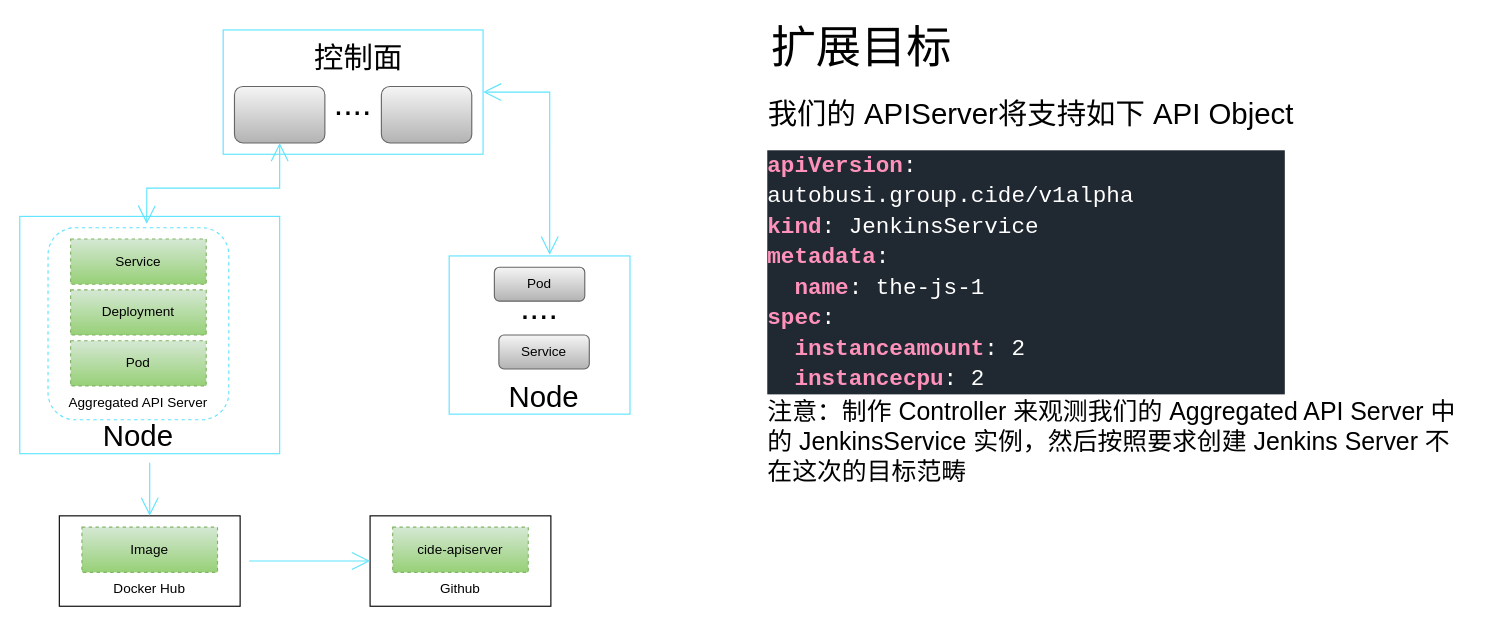
The diagram is 1486 pixels wide and 626 high, and some of its shapes have lost their labels. The box of each missing label's shape, as (x1, y1, x2, y2) in pixels:
API Server: (233, 85, 325, 143)
Scheduler: (380, 85, 472, 143)
